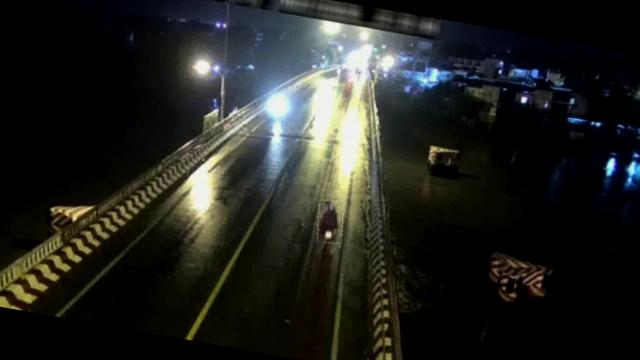Bike: (314, 198, 348, 245)
